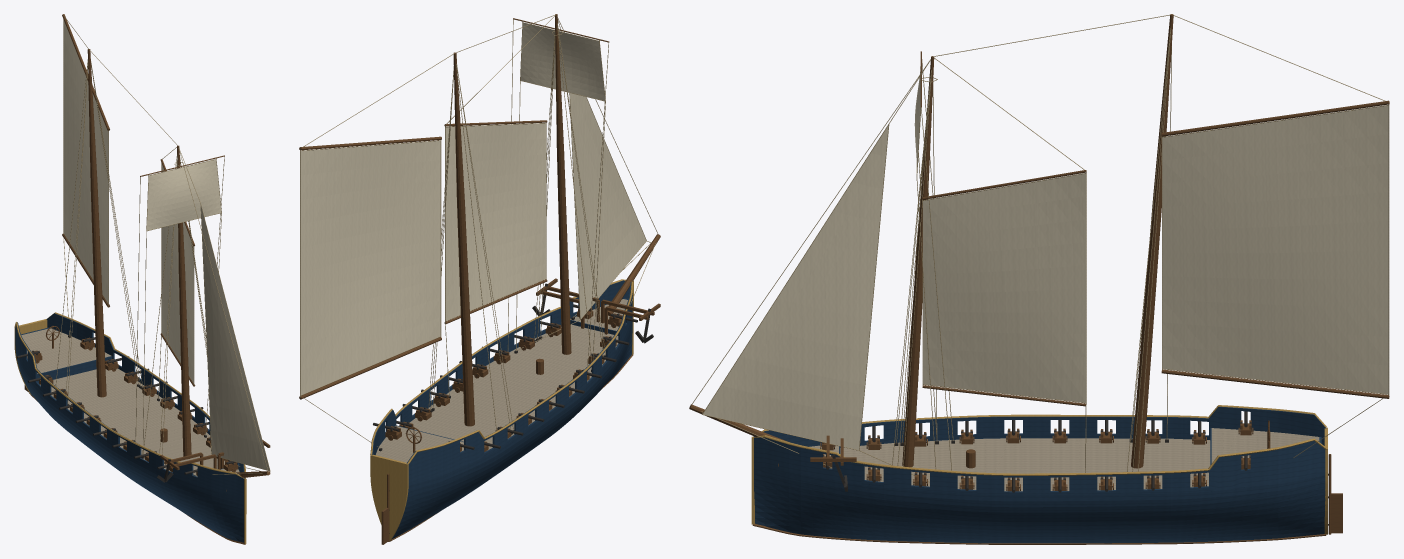
The picture shows the model from 3 angles, left to right: view 1: azimuth 30°, elevation 25°; view 2: azimuth 150°, elevation 25°; view 3: azimuth 270°, elevation 25°; orthographic projection. The views are drawn at different scales.
Parts seen in each view (by area): view 1: lod2_hull_shell_starboard, lod2_main_gaff_00, lod2_jib_00, lod2_main_deck, lod2_fore_square_00, lod2_fore_gaff_01, lod2_main, lod2_castle_deck_0, lod2_hull_shell_port, lod2_fore, lod2_gunwale_starboard, lod2_castle_bulkhead_0_1 (+10 smaller); view 2: lod2_main_gaff_00, lod2_fore_gaff_01, lod2_hull_shell_starboard, lod2_jib_00, lod2_main_deck, lod2_fore_square_00, lod2_main, lod2_hull_shell_port, lod2_fore, lod2_stern_closure, lod2_castle_deck_0, lod2_gunwale_starboard (+5 smaller); view 3: lod2_main_gaff_00, lod2_hull_shell_port, lod2_fore_gaff_01, lod2_jib_00, lod2_main_deck, lod2_hull_shell_starboard, lod2_main, lod2_fore, lod2_castle_deck_0, lod2_gunwale_port, lod2_keel, lod2_gunwale_starboard (+2 smaller).
Boxes of the visible parts, left/top/right/bottom form: lod2_hull_shell_starboard: left=15, top=322, right=244, bottom=542; lod2_main_gaff_00: left=63, top=20, right=108, bottom=303; lod2_jib_00: left=201, top=206, right=269, bottom=470; lod2_main_deck: left=40, top=368, right=224, bottom=474; lod2_fore_square_00: left=146, top=159, right=221, bottom=230; lod2_fore_gaff_01: left=161, top=163, right=193, bottom=382; lod2_main: left=87, top=49, right=106, bottom=397; lod2_castle_deck_0: left=21, top=328, right=111, bottom=373; lod2_hull_shell_port: left=46, top=313, right=245, bottom=478; lod2_fore: left=177, top=145, right=191, bottom=458; lod2_gunwale_starboard: left=14, top=322, right=244, bottom=478; lod2_castle_bulkhead_0_1: left=37, top=356, right=112, bottom=382; lod2_main_gaff_00: left=300, top=141, right=440, bottom=395; lod2_fore_gaff_01: left=445, top=123, right=546, bottom=320; lod2_hull_shell_starboard: left=392, top=282, right=632, bottom=538; lod2_jib_00: left=570, top=93, right=646, bottom=318; lod2_main_deck: left=409, top=324, right=618, bottom=450; lod2_fore_square_00: left=520, top=23, right=604, bottom=100; lod2_main: left=453, top=52, right=474, bottom=426; lod2_hull_shell_port: left=372, top=280, right=630, bottom=455; lod2_fore: left=555, top=14, right=571, bottom=354; lod2_stern_closure: left=370, top=454, right=408, bottom=541; lod2_castle_deck_0: left=376, top=425, right=463, bottom=462; lod2_gunwale_starboard: left=407, top=281, right=633, bottom=464; lod2_main_gaff_00: left=1162, top=105, right=1388, bottom=394; lod2_hull_shell_port: left=754, top=437, right=1325, bottom=543; lod2_fore_gaff_01: left=923, top=173, right=1085, bottom=402; lod2_jib_00: left=703, top=125, right=888, bottom=449; lod2_main_deck: left=840, top=438, right=1210, bottom=491; lod2_hull_shell_starboard: left=753, top=406, right=1326, bottom=447; lod2_main: left=1131, top=14, right=1173, bottom=468; lod2_fore: left=902, top=56, right=934, bottom=467; lod2_castle_deck_0: left=1211, top=428, right=1319, bottom=463; lod2_gunwale_port: left=753, top=435, right=1326, bottom=475; lod2_keel: left=752, top=523, right=1326, bottom=544; lod2_gunwale_starboard: left=753, top=405, right=1326, bottom=436.
Bounding box in the file's own units: 9.17 × 31.16 × 37.29.
7 materials, 7 textured.
